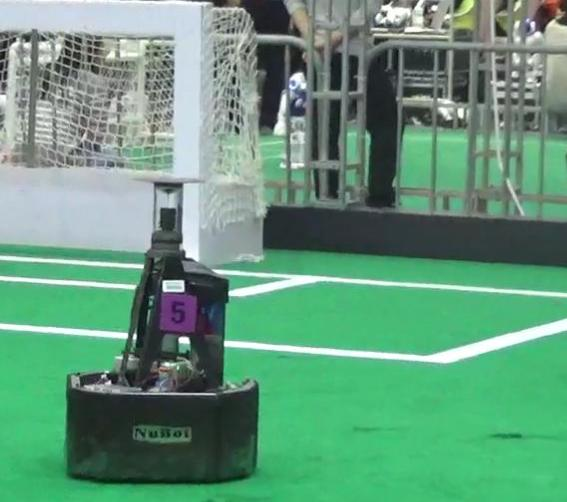robot: (49, 168, 275, 492)
